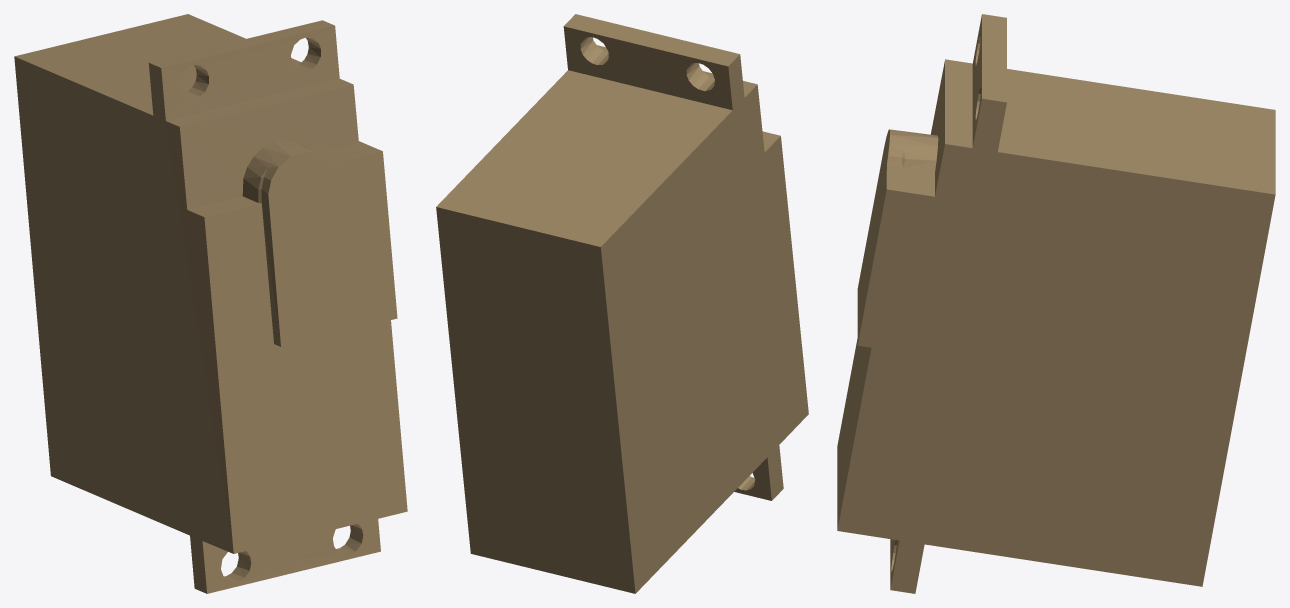
Rendered from right_elbow_x_link_visual_9.obj.light.glb.
3 renders of one model, left to right at view 1: azimuth 30°, elevation 25°; view 2: azimuth 150°, elevation 25°; view 3: azimuth 270°, elevation 25°, orthographic. The views are drawn at different scales.
Bounding box in the file's own units: 0.2828 × 0.7706 × 0.618.
